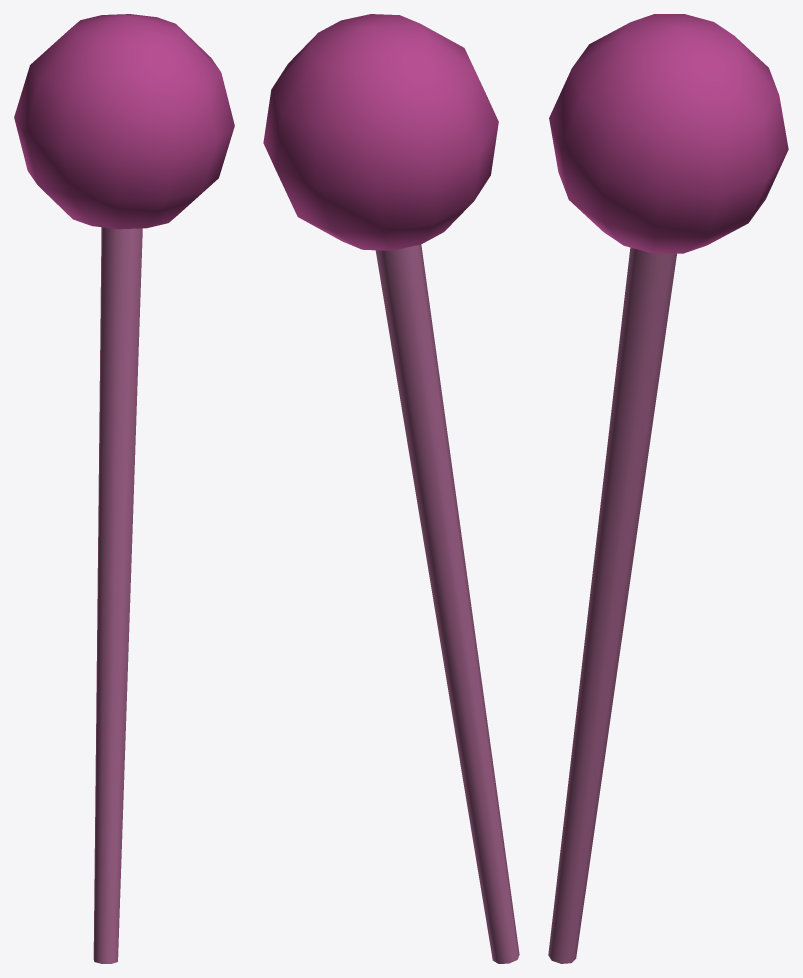
Rendered from Pin.fbx.
3 views of the same model, side by side, from view 1: azimuth 30°, elevation 25°; view 2: azimuth 150°, elevation 25°; view 3: azimuth 270°, elevation 25° (orthographic). The views are drawn at different scales.
Visible parts, largest first — view 1: Pin; view 2: Pin; view 3: Pin.
Boxes of the visible parts, x1,y1,x2,y2 form: Pin: (14,14,234,963); Pin: (263,14,519,963); Pin: (548,14,788,963).
Bounding box in the file's own units: 51.56 × 229 × 51.57.
